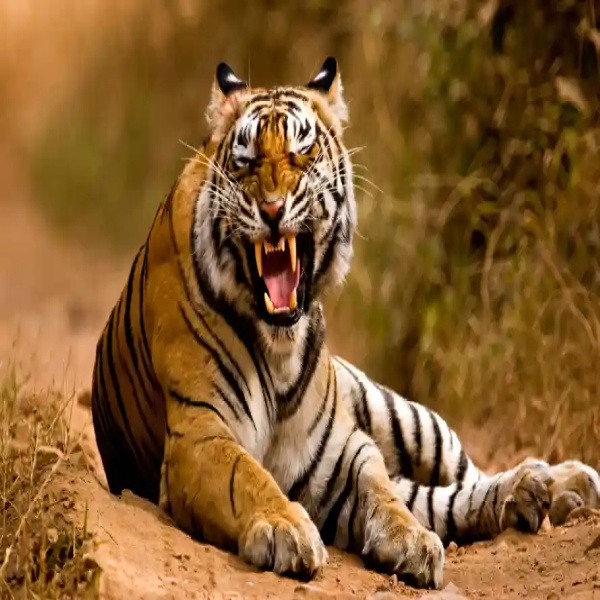Tiger: (88, 57, 599, 589)
